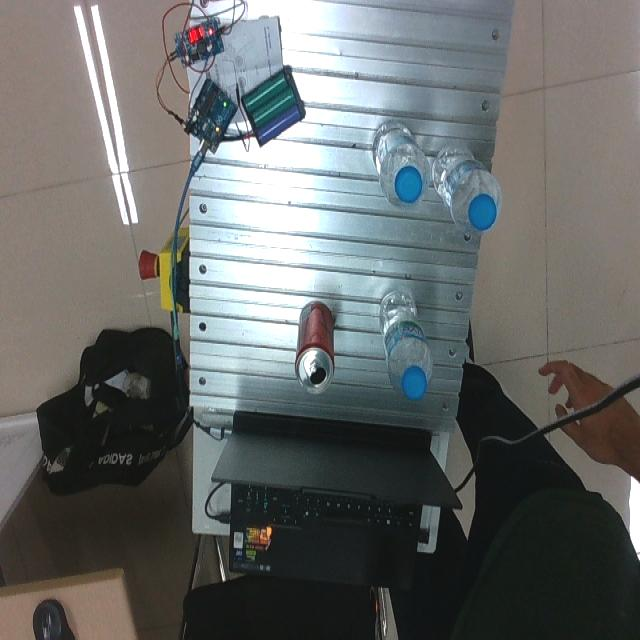coca: (294, 301, 335, 396)
lavie: (430, 145, 501, 236), (378, 289, 433, 400), (371, 122, 428, 210)
